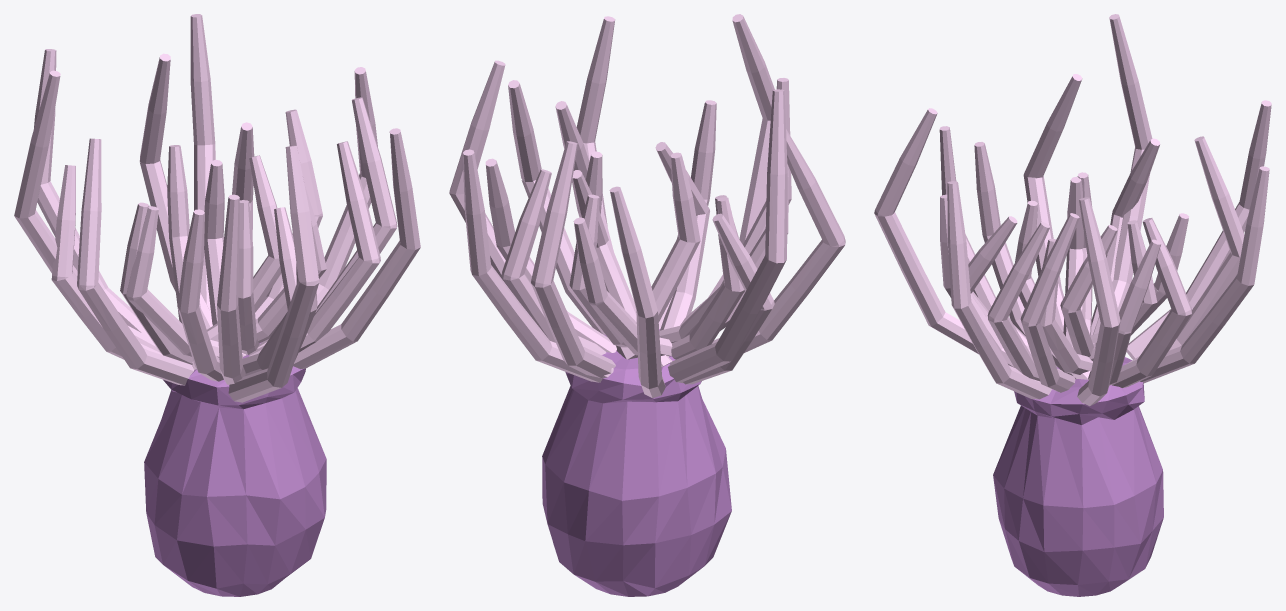
The model's file is Sea anemone.glb.
The picture shows the model from 3 angles, left to right: view 1: azimuth 30°, elevation 25°; view 2: azimuth 150°, elevation 25°; view 3: azimuth 270°, elevation 25°; orthographic projection. The views are drawn at different scales.
Visible parts, largest first — view 1: Anemone; view 2: Anemone; view 3: Anemone.
Boxes of the visible parts, x1,y1,x2,y2 form: Anemone: (14,14,420,596); Anemone: (449,14,845,596); Anemone: (874,14,1271,596).
Bounding box in the file's own units: 89.98 × 131 × 96.55.
1 material, 1 textured.
